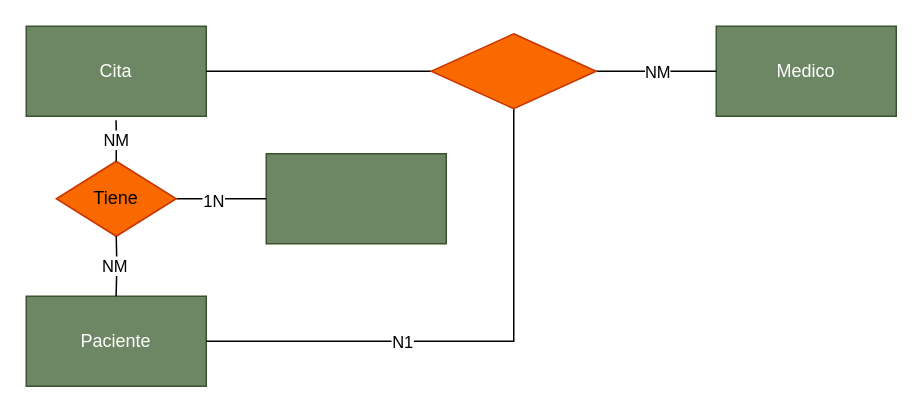
This 923x413 diagram has some shape labels left out. The shapes that lost their labels are listed below. From the top down, each one's centre as x and y in pixels, then its label:
At pixel 513 70: "Atiende".
At pixel 355 198: "Tratamiento".
